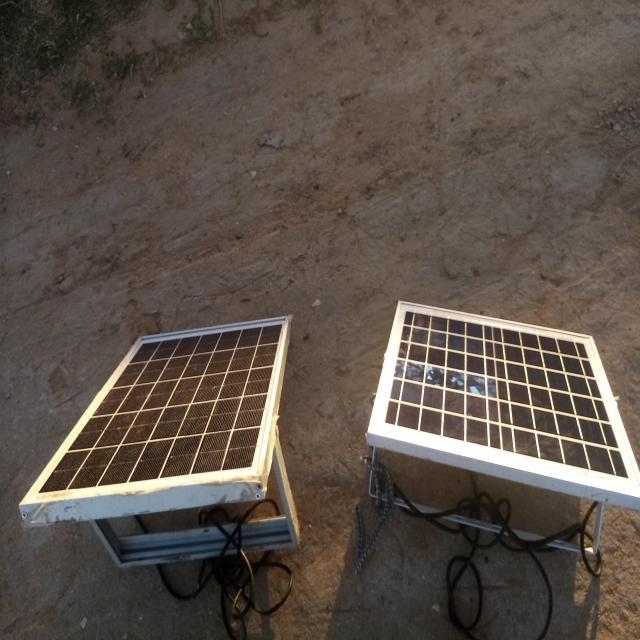no faulty: (368, 302, 640, 498), (25, 318, 286, 503)
